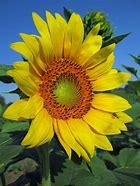sunflowers: (9, 10, 131, 158)
